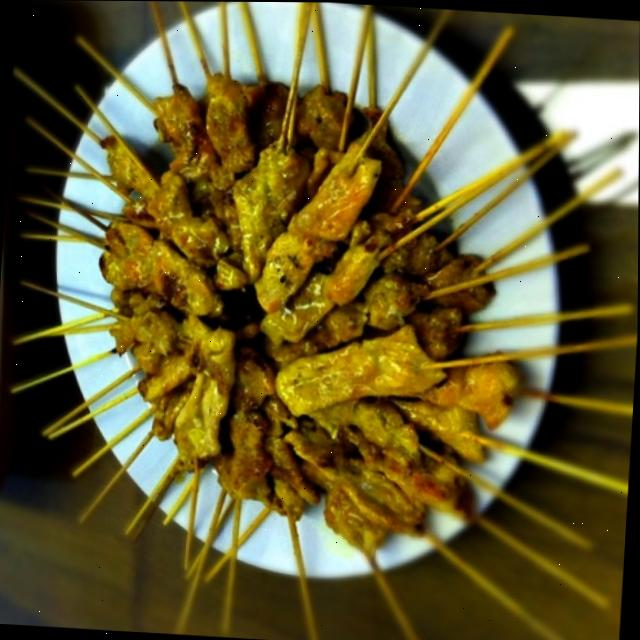牛肉菜式: (11, 0, 636, 637)
